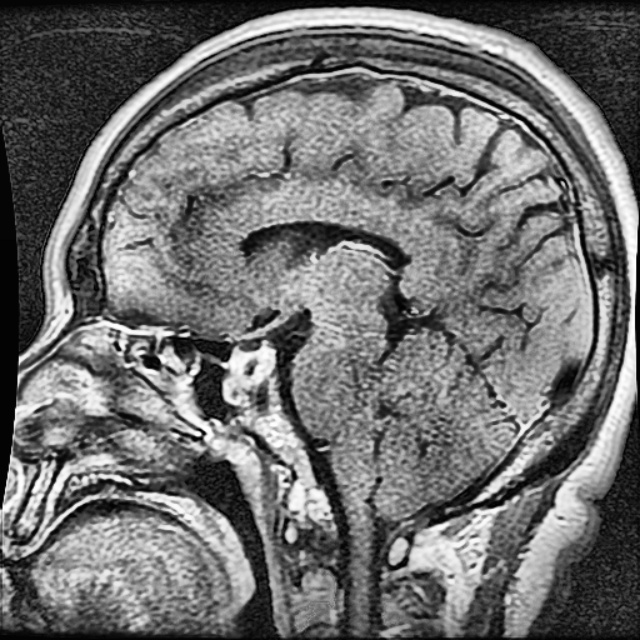Pituitary: (223, 348, 269, 404)
